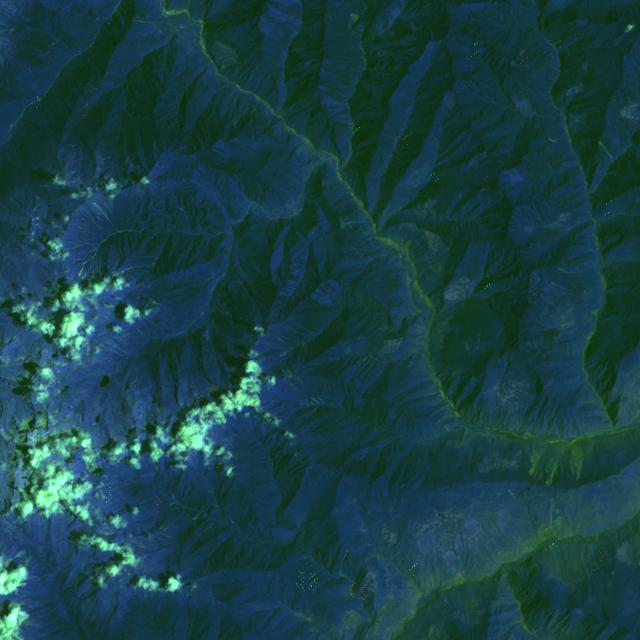landslides: (77, 204, 108, 233), (546, 443, 566, 486), (92, 203, 118, 230), (528, 441, 546, 474), (568, 440, 582, 480), (549, 498, 561, 536), (94, 193, 113, 215), (598, 141, 616, 164), (340, 217, 368, 230), (133, 16, 161, 25), (104, 190, 114, 211), (76, 223, 94, 234), (286, 379, 298, 393), (558, 268, 582, 274), (142, 27, 158, 36), (295, 375, 305, 388), (374, 489, 382, 505), (97, 216, 107, 226)
